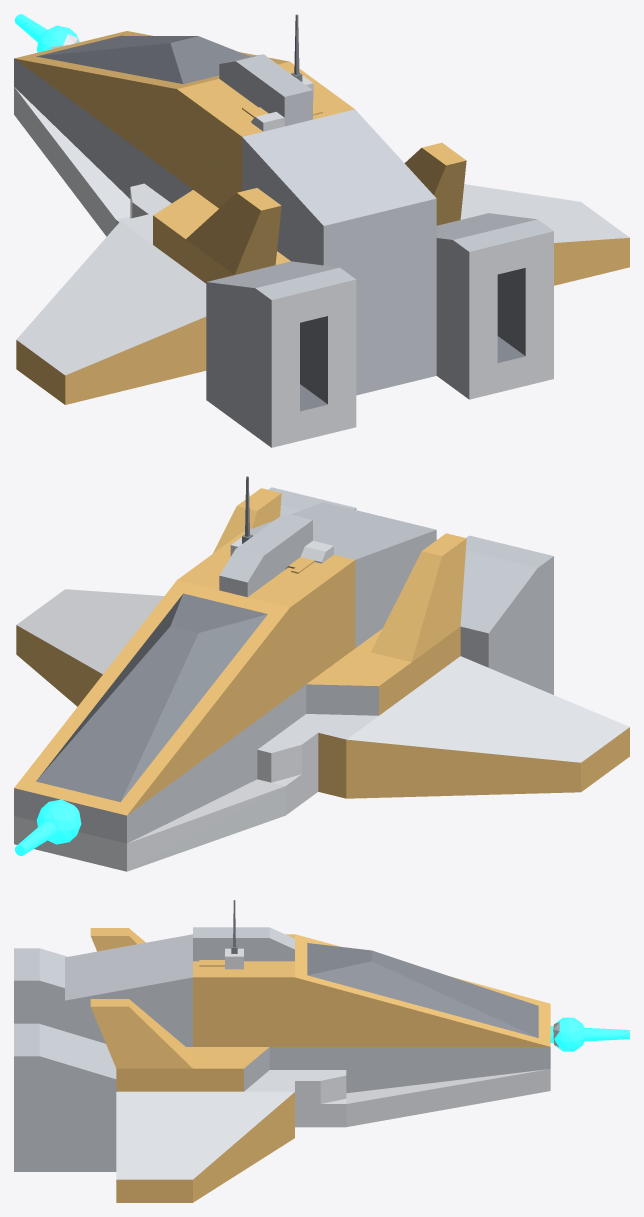
The model's file is drone_repair.glb.
3 renders of one model, top to bottom at view 1: azimuth 30°, elevation 25°; view 2: azimuth 150°, elevation 25°; view 3: azimuth 270°, elevation 25°, orthographic. The views are drawn at different scales.
Parts seen in each view (by area): view 1: drone_repair; view 2: drone_repair; view 3: drone_repair.
Part boxes in pixels (left/top/right/bottom): drone_repair: left=14, top=14, right=629, bottom=447; drone_repair: left=14, top=476, right=629, bottom=871; drone_repair: left=14, top=900, right=629, bottom=1202.
Size of the model in its own units: 2 by 0.98 by 2.41.
